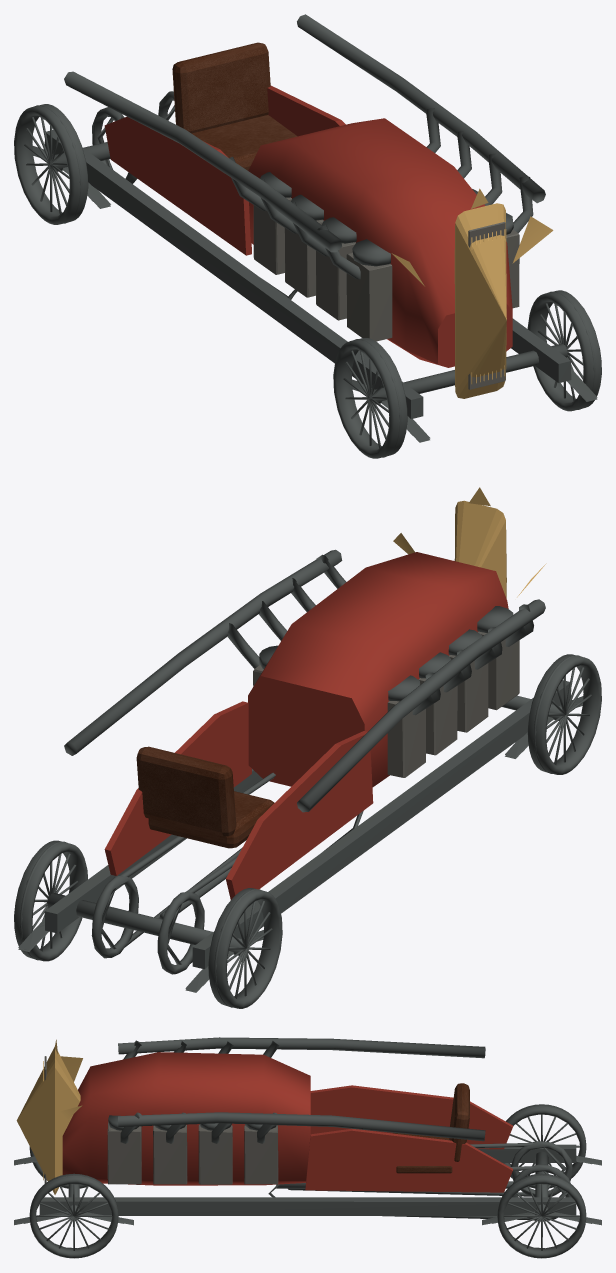
File: Fiat_S76_1910_LOD2.fbx
3 renders of one model, top to bottom at view 1: azimuth 30°, elevation 25°; view 2: azimuth 150°, elevation 25°; view 3: azimuth 270°, elevation 25°, orthographic. The views are drawn at different scales.
Visible parts, largest first — view 1: Fiat_S76_1910_Body_Root_OPT_Merged_FIAT_Paint_RecordRed_OPT_, Fiat_S76_1910_Chassis_Root_OPT_Merged_RB_Steel_Blackened_OPT, Fiat_S76_1910_Body_Root_OPT_Merged_RB_Steel_Blackened_OPT_DA, Fiat_S76_1910_Body_Root_OPT_Merged_RB_Iron_Rough_OPT_DATA_LO, Fiat_S76_1910_Body_Root_OPT_Merged_RB_Brass_Aged_OPT_DATA_LO, Fiat_S76_1910_Body_Root_OPT_Merged_RB_Leather_Saddle_OPT_DAT, Fiat_S76_1910_Wheel_FL_Spin_OPT_Merged_RB_Steel_Blackened_OP, Fiat_S76_1910_Wheel_RL_Spin_OPT_Merged_RB_Steel_Blackened_OP, Fiat_S76_1910_Wheel_FR_Spin_OPT_Merged_RB_Steel_Blackened_OP; view 2: Fiat_S76_1910_Body_Root_OPT_Merged_FIAT_Paint_RecordRed_OPT_, Fiat_S76_1910_Chassis_Root_OPT_Merged_RB_Steel_Blackened_OPT, Fiat_S76_1910_Body_Root_OPT_Merged_RB_Steel_Blackened_OPT_DA, Fiat_S76_1910_Body_Root_OPT_Merged_RB_Leather_Saddle_OPT_DAT, Fiat_S76_1910_Body_Root_OPT_Merged_RB_Iron_Rough_OPT_DATA_LO, Fiat_S76_1910_Wheel_FL_Spin_OPT_Merged_RB_Steel_Blackened_OP, Fiat_S76_1910_Wheel_RL_Spin_OPT_Merged_RB_Steel_Blackened_OP, Fiat_S76_1910_Wheel_RR_Spin_OPT_Merged_RB_Steel_Blackened_OP, Fiat_S76_1910_Body_Root_OPT_Merged_RB_Brass_Aged_OPT_DATA_LO; view 3: Fiat_S76_1910_Body_Root_OPT_Merged_FIAT_Paint_RecordRed_OPT_, Fiat_S76_1910_Chassis_Root_OPT_Merged_RB_Steel_Blackened_OPT, Fiat_S76_1910_Body_Root_OPT_Merged_RB_Steel_Blackened_OPT_DA, Fiat_S76_1910_Body_Root_OPT_Merged_RB_Iron_Rough_OPT_DATA_LO, Fiat_S76_1910_Body_Root_OPT_Merged_RB_Brass_Aged_OPT_DATA_LO, Fiat_S76_1910_Wheel_FR_Spin_OPT_Merged_RB_Steel_Blackened_OP, Fiat_S76_1910_Wheel_RR_Spin_OPT_Merged_RB_Steel_Blackened_OP, Fiat_S76_1910_Wheel_RL_Spin_OPT_Merged_RB_Steel_Blackened_OP, Fiat_S76_1910_Body_Root_OPT_Merged_RB_Leather_Saddle_OPT_DAT.
Boxes of the visible parts, bbox=[...] form: Fiat_S76_1910_Body_Root_OPT_Merged_FIAT_Paint_RecordRed_OPT_: bbox=[104, 85, 512, 367]; Fiat_S76_1910_Chassis_Root_OPT_Merged_RB_Steel_Blackened_OPT: bbox=[32, 91, 597, 442]; Fiat_S76_1910_Body_Root_OPT_Merged_RB_Steel_Blackened_OPT_DA: bbox=[64, 14, 545, 279]; Fiat_S76_1910_Body_Root_OPT_Merged_RB_Iron_Rough_OPT_DATA_LO: bbox=[253, 197, 519, 389]; Fiat_S76_1910_Body_Root_OPT_Merged_RB_Brass_Aged_OPT_DATA_LO: bbox=[391, 188, 553, 398]; Fiat_S76_1910_Body_Root_OPT_Merged_RB_Leather_Saddle_OPT_DAT: bbox=[172, 42, 297, 170]; Fiat_S76_1910_Wheel_FL_Spin_OPT_Merged_RB_Steel_Blackened_OP: bbox=[333, 338, 407, 458]; Fiat_S76_1910_Wheel_RL_Spin_OPT_Merged_RB_Steel_Blackened_OP: bbox=[14, 104, 88, 224]; Fiat_S76_1910_Wheel_FR_Spin_OPT_Merged_RB_Steel_Blackened_OP: bbox=[527, 290, 601, 411]; Fiat_S76_1910_Body_Root_OPT_Merged_FIAT_Paint_RecordRed_OPT_: bbox=[104, 552, 508, 899]; Fiat_S76_1910_Chassis_Root_OPT_Merged_RB_Steel_Blackened_OPT: bbox=[18, 680, 583, 992]; Fiat_S76_1910_Body_Root_OPT_Merged_RB_Steel_Blackened_OPT_DA: bbox=[64, 549, 545, 812]; Fiat_S76_1910_Body_Root_OPT_Merged_RB_Leather_Saddle_OPT_DAT: bbox=[136, 746, 274, 848]; Fiat_S76_1910_Body_Root_OPT_Merged_RB_Iron_Rough_OPT_DATA_LO: bbox=[253, 631, 519, 777]; Fiat_S76_1910_Wheel_FL_Spin_OPT_Merged_RB_Steel_Blackened_OP: bbox=[527, 654, 601, 774]; Fiat_S76_1910_Wheel_RL_Spin_OPT_Merged_RB_Steel_Blackened_OP: bbox=[208, 888, 282, 1008]; Fiat_S76_1910_Wheel_RR_Spin_OPT_Merged_RB_Steel_Blackened_OP: bbox=[14, 840, 87, 961]; Fiat_S76_1910_Body_Root_OPT_Merged_RB_Brass_Aged_OPT_DATA_LO: bbox=[393, 487, 546, 598]; Fiat_S76_1910_Body_Root_OPT_Merged_FIAT_Paint_RecordRed_OPT_: bbox=[62, 1052, 512, 1192]; Fiat_S76_1910_Chassis_Root_OPT_Merged_RB_Steel_Blackened_OPT: bbox=[14, 1141, 601, 1225]; Fiat_S76_1910_Body_Root_OPT_Merged_RB_Steel_Blackened_OPT_DA: bbox=[108, 1037, 485, 1143]; Fiat_S76_1910_Body_Root_OPT_Merged_RB_Iron_Rough_OPT_DATA_LO: bbox=[44, 1056, 278, 1184]; Fiat_S76_1910_Body_Root_OPT_Merged_RB_Brass_Aged_OPT_DATA_LO: bbox=[16, 1039, 82, 1194]; Fiat_S76_1910_Wheel_FR_Spin_OPT_Merged_RB_Steel_Blackened_OP: bbox=[29, 1173, 118, 1258]; Fiat_S76_1910_Wheel_RR_Spin_OPT_Merged_RB_Steel_Blackened_OP: bbox=[497, 1173, 586, 1258]; Fiat_S76_1910_Wheel_RL_Spin_OPT_Merged_RB_Steel_Blackened_OP: bbox=[503, 1104, 586, 1188]; Fiat_S76_1910_Body_Root_OPT_Merged_RB_Leather_Saddle_OPT_DAT: bbox=[393, 1083, 469, 1173].
Size of what is drawn, in the model's own units: 165 by 160 by 465.
Materials: 5 (1 with a texture image).
